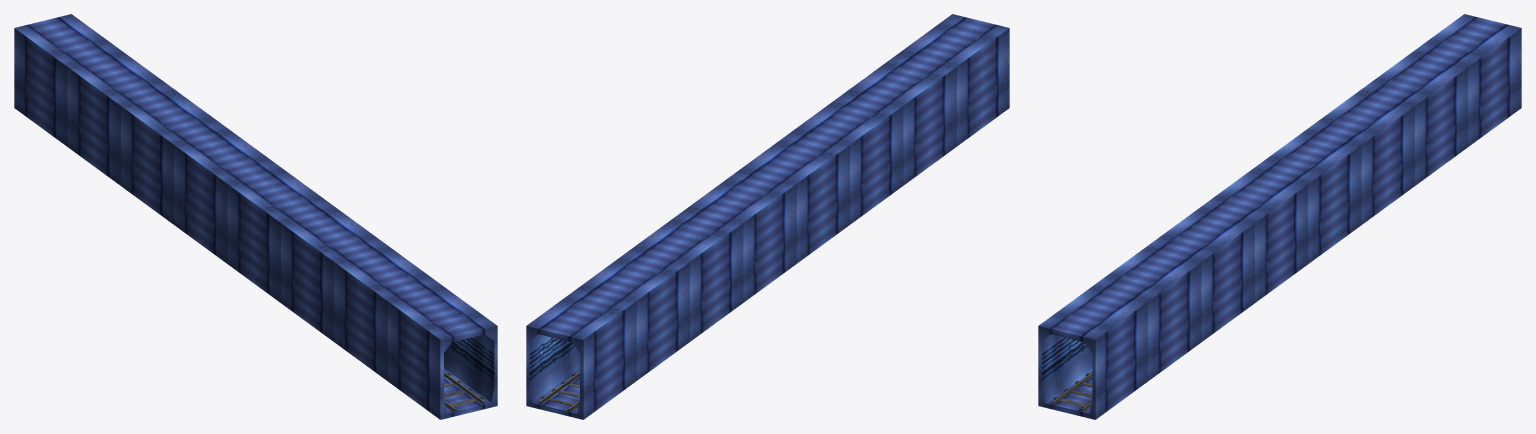
Rendered from SubwayTunnel01_One.FBX.
3 renders of one model, left to right at view 1: azimuth 30°, elevation 25°; view 2: azimuth 150°, elevation 25°; view 3: azimuth 330°, elevation 25°, orthographic.
Visible parts, largest first — view 1: SubwayTunnel01_One, Subway01RailwayTunnel_One; view 2: SubwayTunnel01_One, Subway01RailwayTunnel_One; view 3: SubwayTunnel01_One, Subway01RailwayTunnel_One.
Part boxes in pixels (left/top/right/bottom): SubwayTunnel01_One: left=14, top=14, right=497, bottom=419; Subway01RailwayTunnel_One: left=444, top=372, right=485, bottom=411; SubwayTunnel01_One: left=526, top=14, right=1009, bottom=419; Subway01RailwayTunnel_One: left=538, top=372, right=579, bottom=411; SubwayTunnel01_One: left=1038, top=14, right=1521, bottom=419; Subway01RailwayTunnel_One: left=1051, top=372, right=1092, bottom=411.
Bounding box in the file's own units: 5689 × 7641 × 73544.
